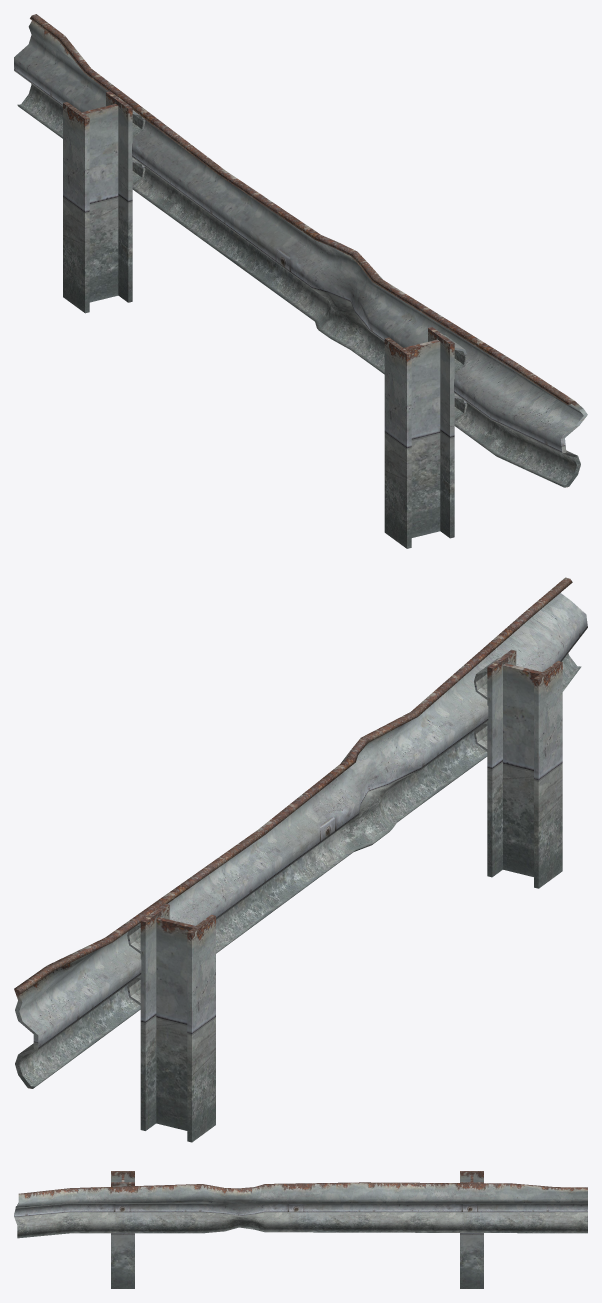
Rendered from CrashBarrierBroken.fbx.
3 views of the same model, one above another, from view 1: azimuth 30°, elevation 25°; view 2: azimuth 150°, elevation 25°; view 3: azimuth 270°, elevation 25° (orthographic). The views are drawn at different scales.
Parts seen in each view (by area): view 1: CrashBarrierBroken; view 2: CrashBarrierBroken; view 3: CrashBarrierBroken.
Part boxes in pixels (x1,y1,x2,y2): CrashBarrierBroken: (14, 14, 587, 548); CrashBarrierBroken: (14, 577, 587, 1142); CrashBarrierBroken: (14, 1171, 587, 1288).
Bounding box in the file's own units: 51.53 × 102 × 500.
